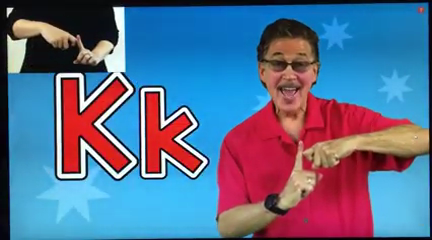K: (286, 134, 351, 208), (40, 19, 97, 68)
